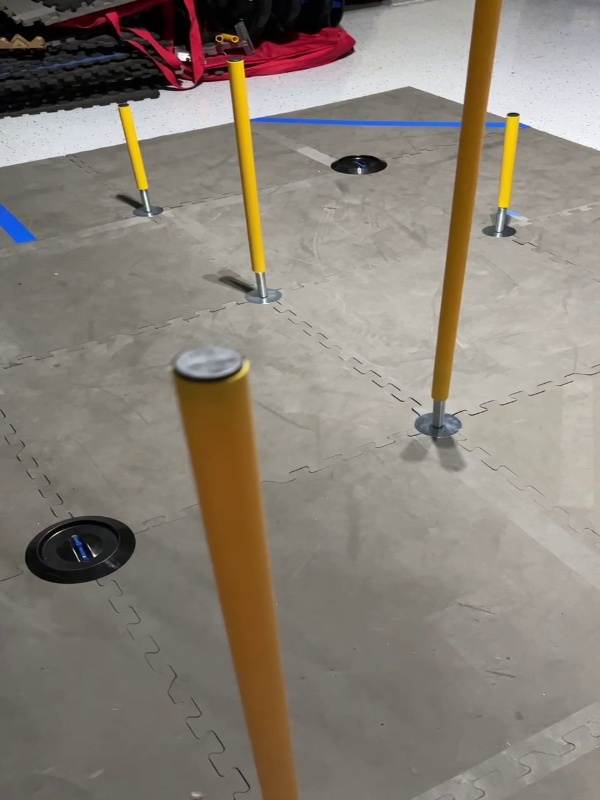top: (165, 342, 250, 388)
